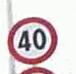limite 40: (6, 16, 57, 63)
